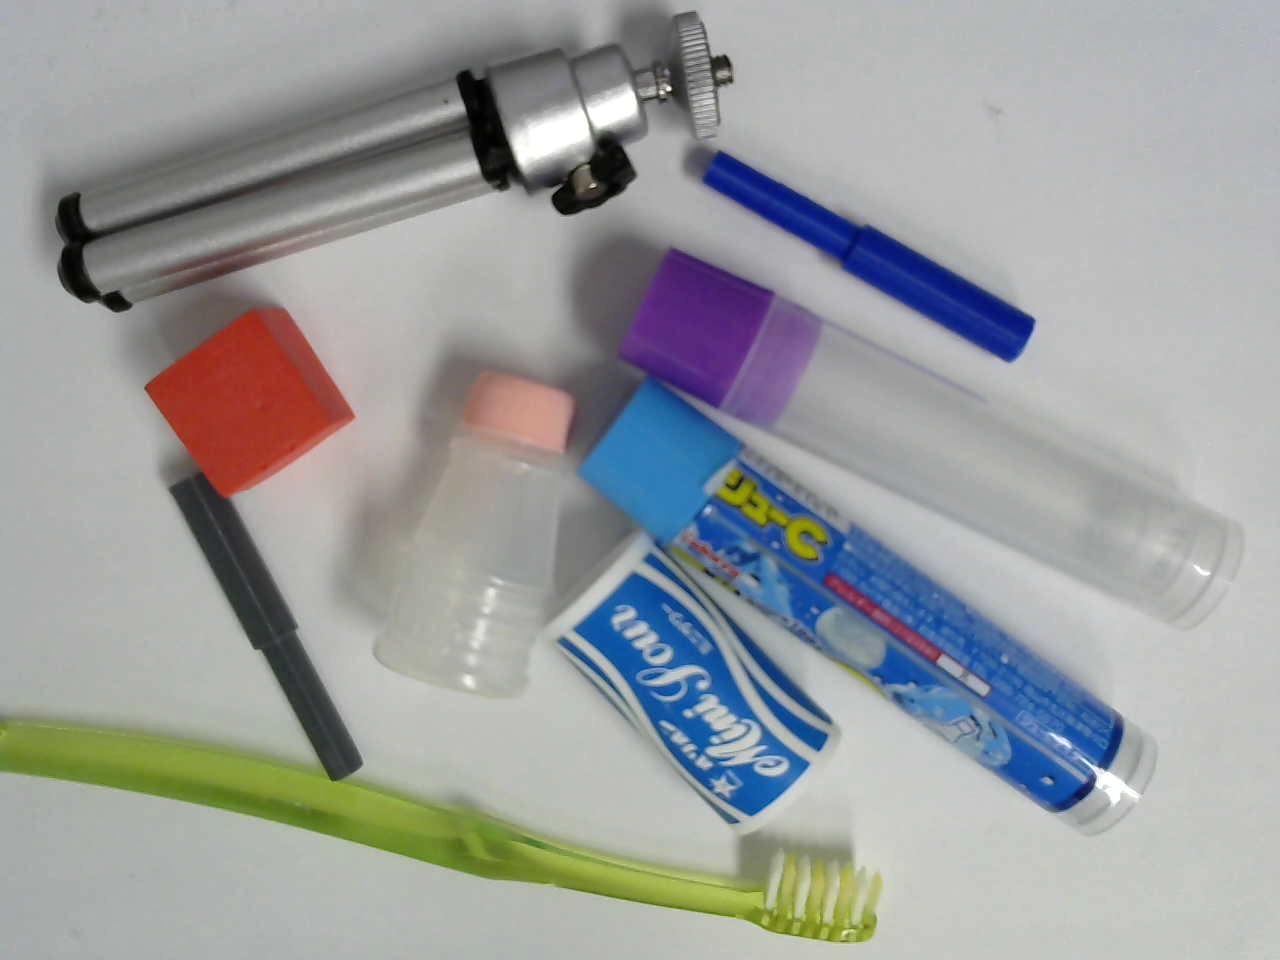block: (142, 303, 355, 497)
brush: (0, 726, 882, 942)
coke: (545, 530, 841, 837)
cup: (375, 366, 579, 700)
dai: (55, 13, 735, 313)
jyuc: (579, 374, 1159, 835)
jyuc_g: (618, 248, 1244, 635)
pen2: (702, 149, 1036, 359)
pen_gray: (166, 469, 360, 782)
